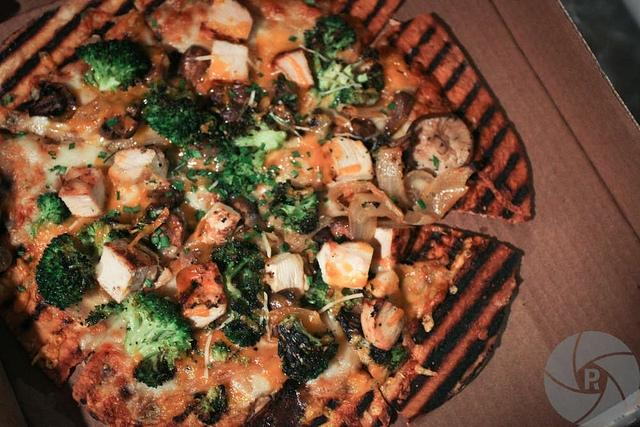broccoli: (302, 14, 384, 112), (120, 290, 198, 360), (34, 232, 96, 311), (75, 32, 153, 94), (142, 82, 210, 148), (276, 315, 341, 383), (210, 240, 264, 310), (76, 216, 131, 261), (223, 297, 266, 347), (30, 192, 72, 239), (133, 347, 177, 388), (194, 383, 228, 425), (282, 199, 320, 234), (234, 130, 287, 151), (369, 343, 408, 369), (305, 271, 332, 308), (264, 112, 302, 137), (233, 174, 256, 195), (210, 341, 232, 361), (251, 150, 267, 174), (246, 194, 256, 203)
mushroom: (402, 112, 476, 177), (343, 181, 403, 242), (27, 82, 76, 122), (384, 90, 414, 138), (178, 46, 211, 88), (152, 213, 184, 251), (156, 77, 196, 95), (110, 114, 138, 139)
